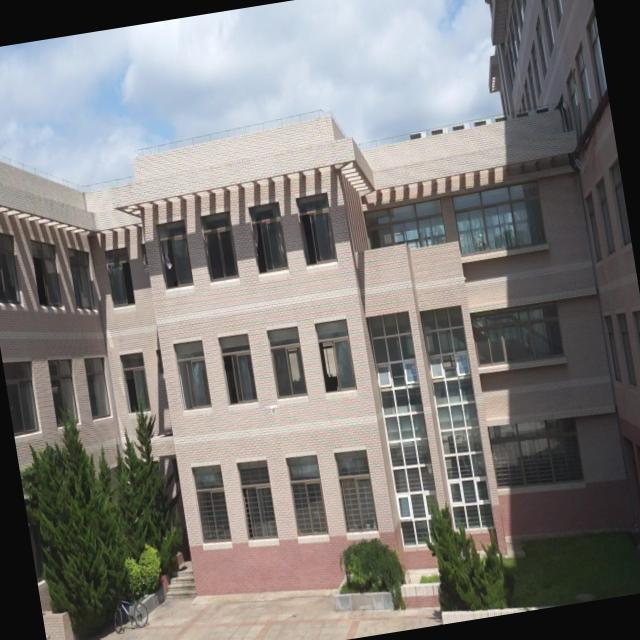drone: (265, 400, 282, 418)
